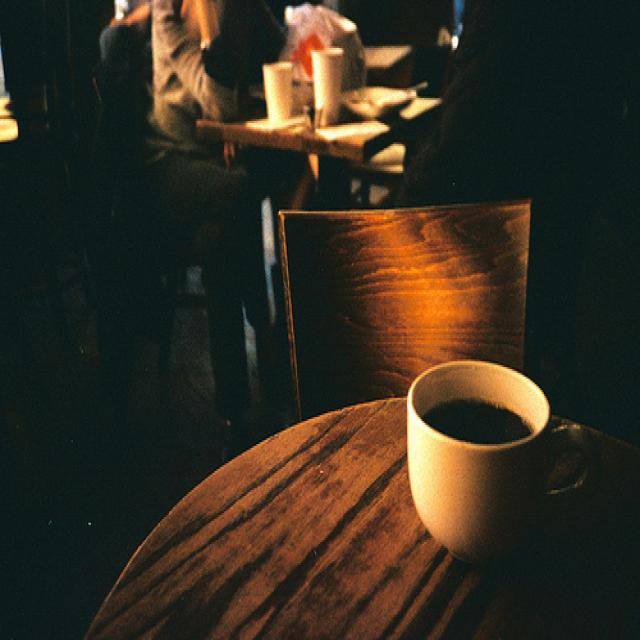Cup: (413, 351, 549, 567), (263, 50, 303, 140), (305, 39, 342, 129)
People: (137, 0, 262, 284)
Table: (53, 376, 626, 640), (214, 32, 514, 287)
chair: (273, 144, 560, 381)
